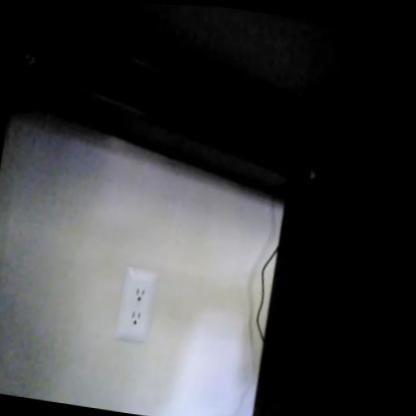OUTLET: (116, 266, 157, 341)
